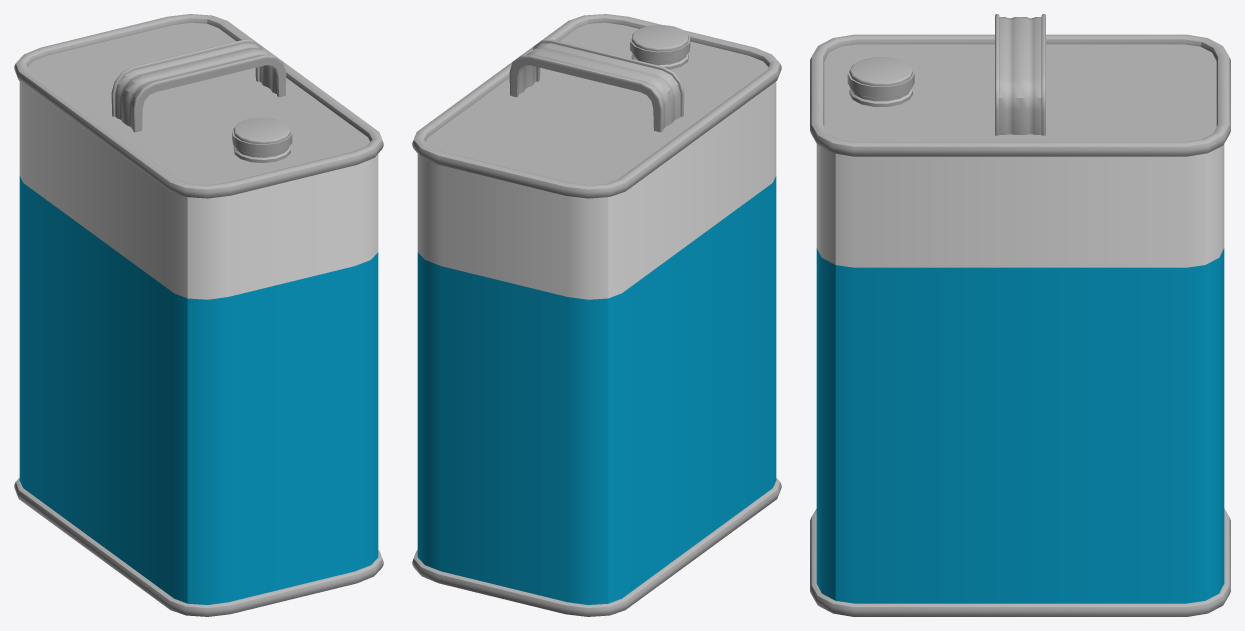
The model's file is Canister_01.glb.
3 renders of one model, left to right at view 1: azimuth 30°, elevation 25°; view 2: azimuth 150°, elevation 25°; view 3: azimuth 270°, elevation 25°, orthographic. The views are drawn at different scales.
Visible parts, largest first — view 1: Mesh_Canister_01; view 2: Mesh_Canister_01; view 3: Mesh_Canister_01.
Part boxes in pixels (bbox=[...]): Mesh_Canister_01: bbox=[14, 14, 383, 616]; Mesh_Canister_01: bbox=[412, 14, 781, 616]; Mesh_Canister_01: bbox=[810, 14, 1230, 616].
Bounding box in the file's own units: 0.1052 × 0.2236 × 0.1652.
1 material, 1 textured.
